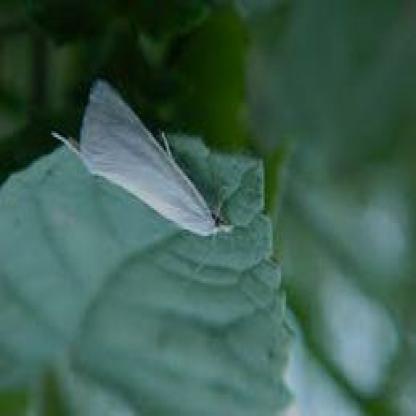stem-borer: (50, 76, 236, 240)
